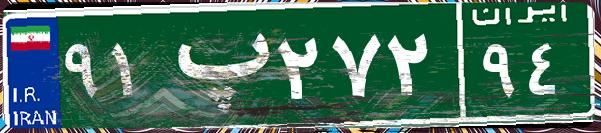1: (110, 28, 158, 105)
2: (385, 28, 445, 110), (273, 28, 330, 110)
4: (525, 38, 570, 115)
7: (330, 28, 385, 110)
9: (57, 26, 110, 107), (475, 38, 525, 113)
پ: (158, 15, 273, 115)
